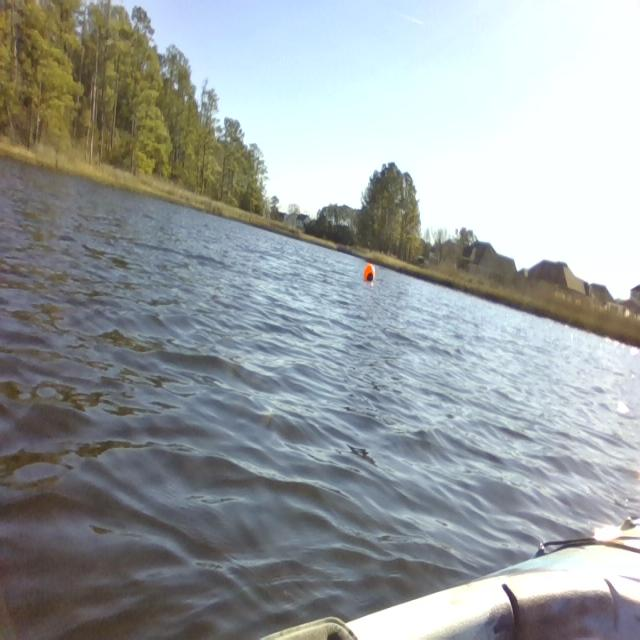Buoy: (362, 258, 378, 290)
